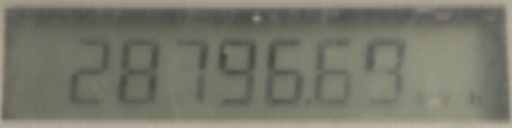2: (69, 32, 113, 110)
6: (265, 33, 309, 111), (313, 33, 357, 111)
7: (166, 30, 210, 108)
8: (116, 32, 160, 110)
9: (215, 33, 259, 111), (365, 35, 409, 113)
d: (303, 91, 314, 108)
